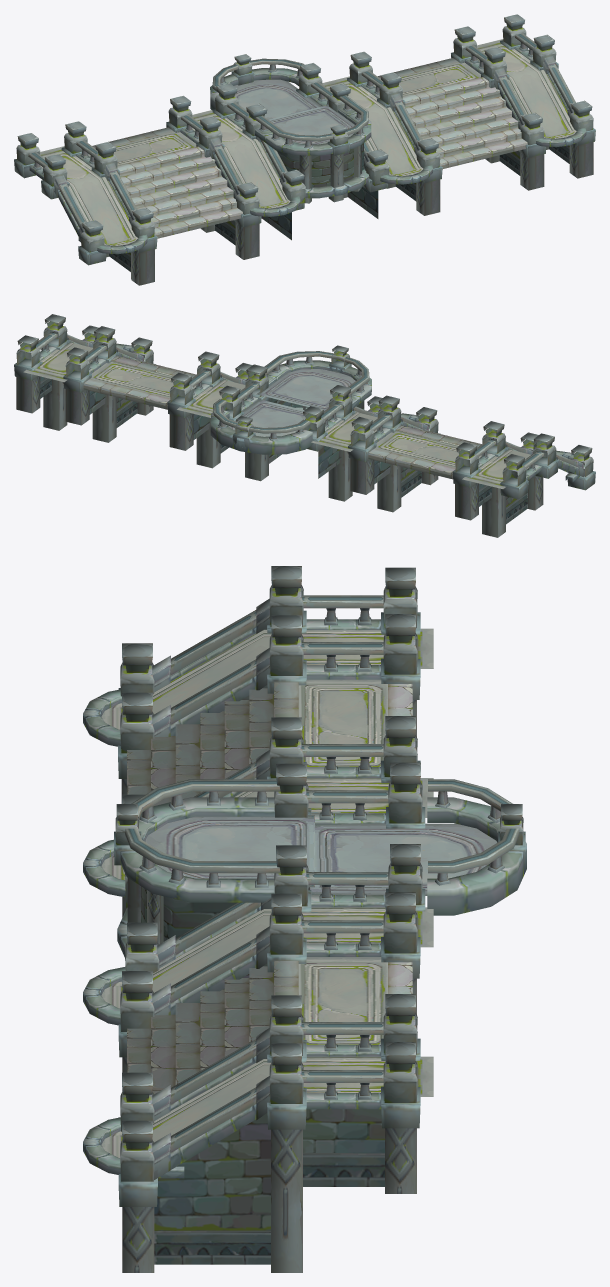
Rendered from Map_045_stairs08.FBX.
3 renders of one model, top to bottom at view 1: azimuth 30°, elevation 25°; view 2: azimuth 150°, elevation 25°; view 3: azimuth 270°, elevation 25°, orthographic. The views are drawn at different scales.
Parts seen in each view (by area): view 1: Map_06_stairs08; view 2: Map_06_stairs08; view 3: Map_06_stairs08.
Part boxes in pixels (x1,y1,x2,y2): Map_06_stairs08: (14, 14, 595, 285); Map_06_stairs08: (14, 314, 595, 537); Map_06_stairs08: (83, 566, 526, 1272).
Bounding box in the file's own units: 5676 × 1153 × 2147.
Materials: 1 (1 with a texture image).
